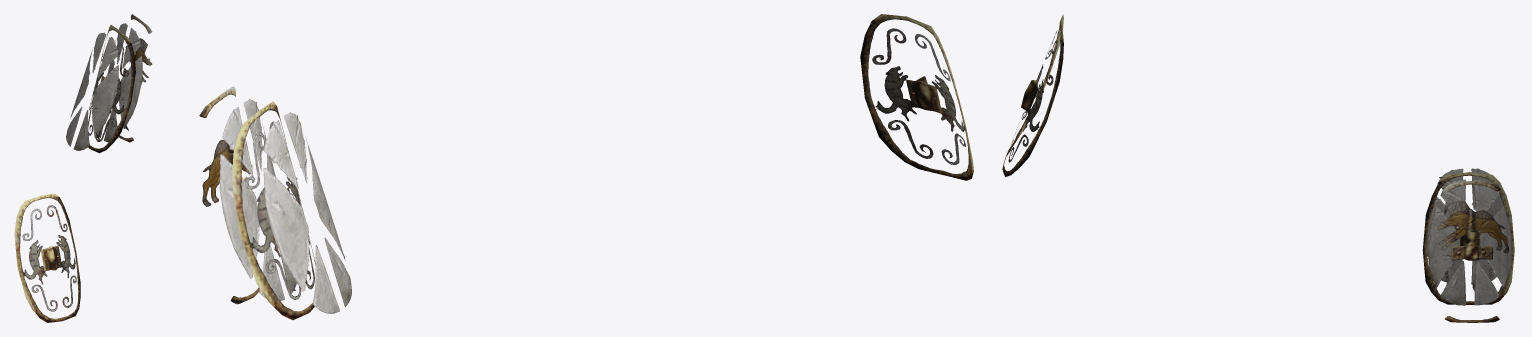
Rendered from rome_barracks_shields_1.dae.
3 views of the same model, side by side, from view 1: azimuth 30°, elevation 25°; view 2: azimuth 150°, elevation 25°; view 3: azimuth 270°, elevation 25° (orthographic). The views are drawn at different scales.
Visible parts, largest first — view 1: scutum_b02; view 2: scutum_b02; view 3: scutum_b02.
Boxes of the visible parts, bbox=[...] form: scutum_b02: bbox=[14, 14, 152, 322]; scutum_b02: bbox=[199, 14, 973, 320]; scutum_b02: bbox=[1002, 14, 1514, 322].
Bounding box in the file's own units: 6.82 × 7.94 × 2.68.
